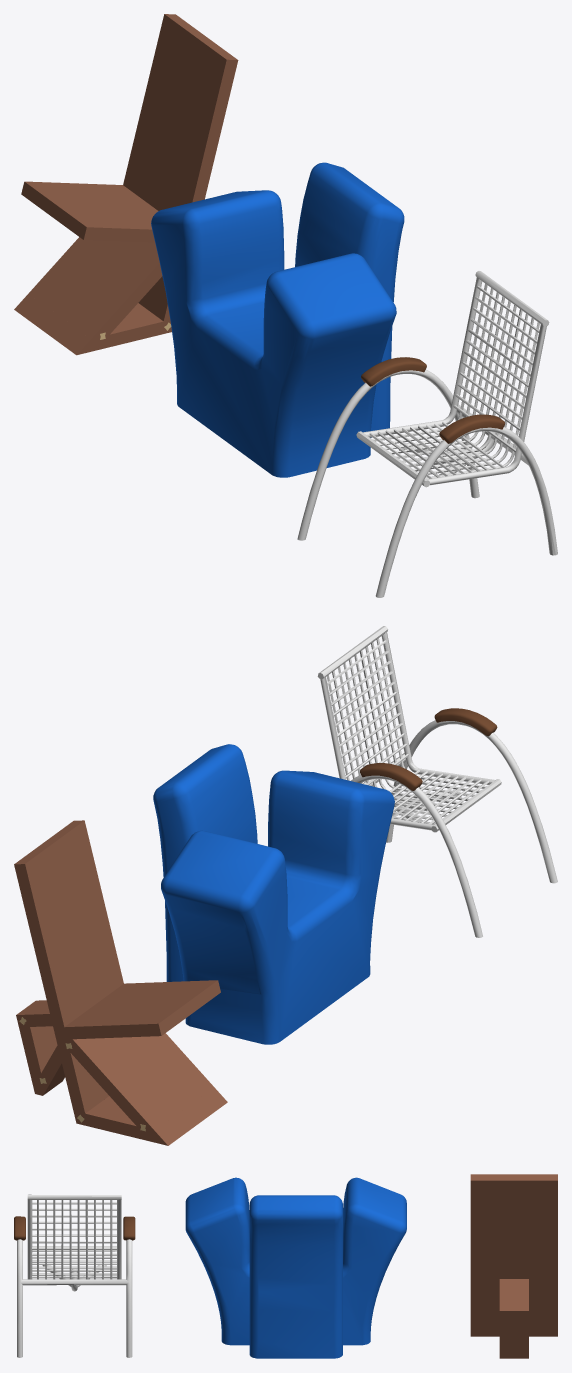
Rendered from sculpture_06.glb.
3 views of the same model, one above another, from view 1: azimuth 30°, elevation 25°; view 2: azimuth 150°, elevation 25°; view 3: azimuth 270°, elevation 25° (orthographic). The views are drawn at different scales.
Visible parts, largest first — view 1: SCL_15; view 2: SCL_15; view 3: SCL_15.
Boxes of the visible parts, left/top/right/bottom form: SCL_15: left=14, top=14, right=557, bottom=597; SCL_15: left=14, top=626, right=557, bottom=1145; SCL_15: left=14, top=1174, right=557, bottom=1358.
Bounding box in the file's own units: 0.4312 × 0.5244 × 1.43.
